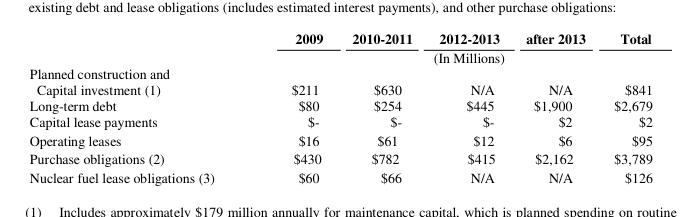table: (28, 28, 651, 185)
table column: (28, 28, 252, 185), (337, 28, 425, 185), (425, 28, 512, 185), (512, 28, 599, 185), (252, 28, 337, 185), (599, 28, 651, 185)
table column header: (28, 28, 651, 64)
table projected row header: (28, 64, 651, 80)
table row: (28, 28, 651, 47), (28, 129, 651, 148), (28, 148, 651, 167), (28, 167, 651, 185), (28, 47, 651, 64), (28, 112, 651, 129), (28, 64, 651, 80), (28, 80, 651, 96), (28, 96, 651, 112)
table spanning cell: (252, 47, 651, 64)
